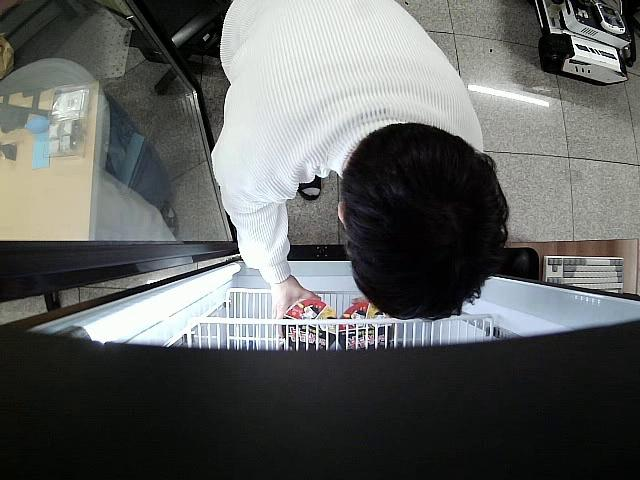00_hand: (273, 278, 321, 339)
07_buldak_L: (280, 295, 337, 351), (337, 303, 395, 348)
